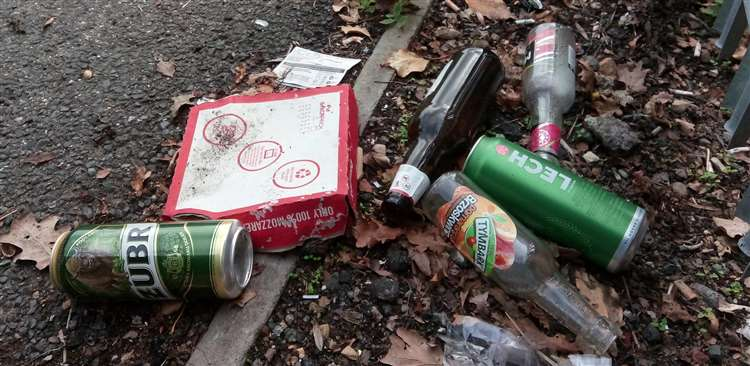bottle: (424, 171, 618, 353), (385, 49, 504, 215), (521, 21, 574, 161)
can: (462, 134, 648, 272), (43, 220, 260, 301)
